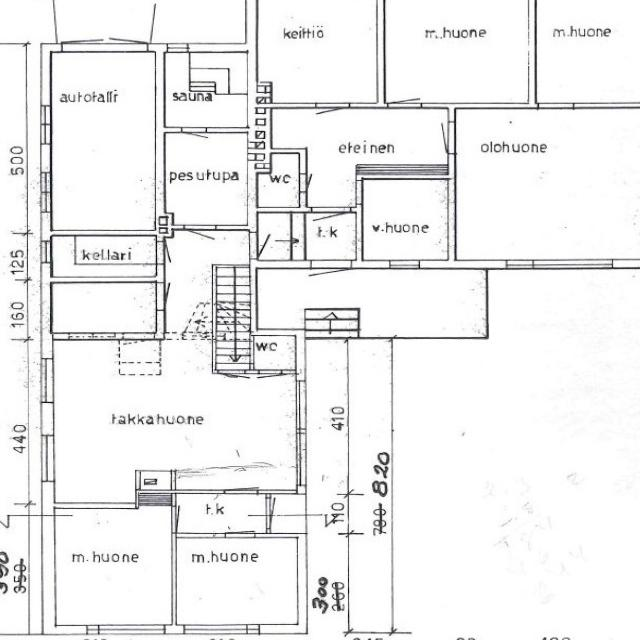door: (61, 5, 105, 53), (105, 5, 148, 54), (310, 260, 351, 304), (312, 207, 350, 246), (183, 224, 217, 260), (315, 73, 349, 108), (268, 498, 306, 528), (156, 283, 195, 311), (224, 461, 257, 494), (248, 232, 286, 259), (540, 76, 571, 108), (226, 506, 256, 536), (172, 506, 204, 530), (180, 128, 207, 156), (218, 332, 245, 360), (183, 340, 214, 364), (222, 342, 252, 364), (300, 172, 328, 192)
